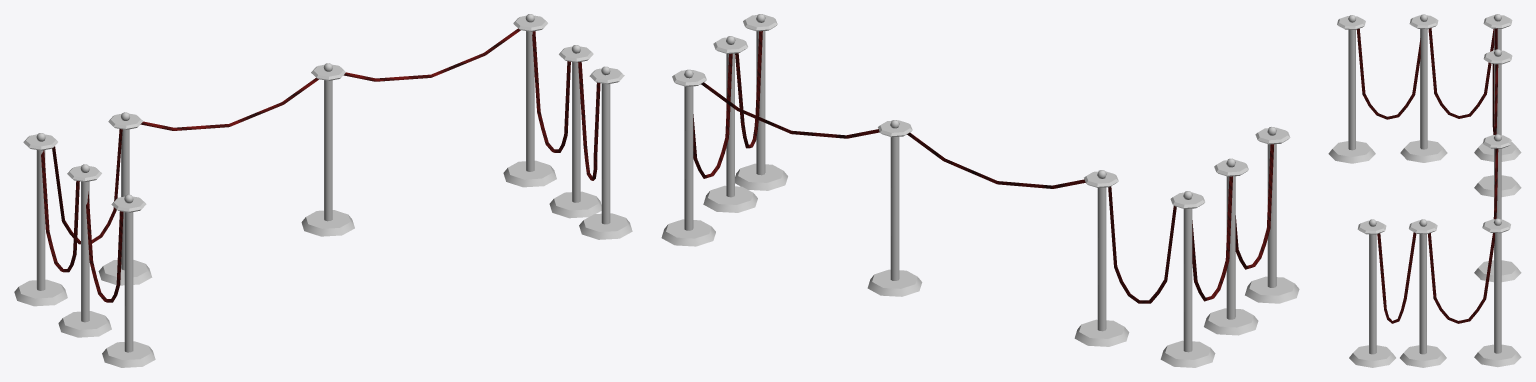
File: Prop_Post_01.FBX
The picture shows the model from 3 angles, left to right: view 1: azimuth 30°, elevation 25°; view 2: azimuth 150°, elevation 25°; view 3: azimuth 270°, elevation 25°; orthographic projection. The views are drawn at different scales.
Visible parts, largest first — view 1: Prop_Post_01; view 2: Prop_Post_01; view 3: Prop_Post_01.
Part boxes in pixels (bbox=[...]): Prop_Post_01: bbox=[14, 14, 632, 367]; Prop_Post_01: bbox=[661, 14, 1299, 367]; Prop_Post_01: bbox=[1328, 14, 1521, 367].
Bounding box in the file's own units: 2.86 × 0.822 × 1.04.
